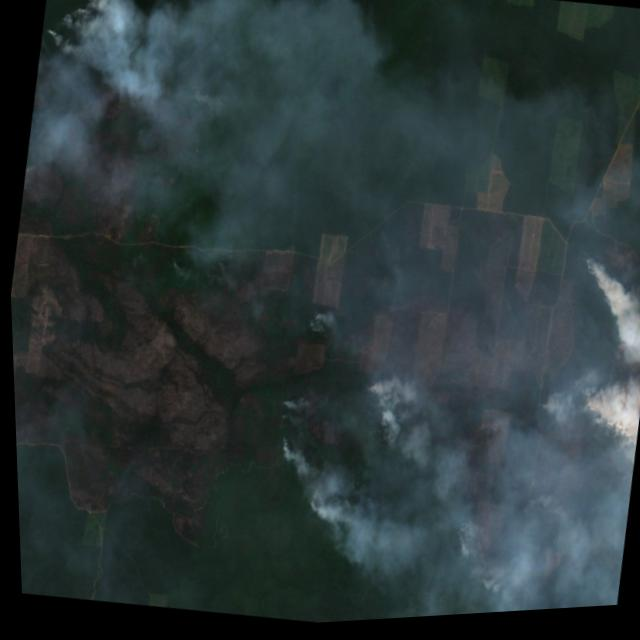fire: (546, 220, 640, 492), (436, 483, 551, 615), (32, 0, 133, 103)
